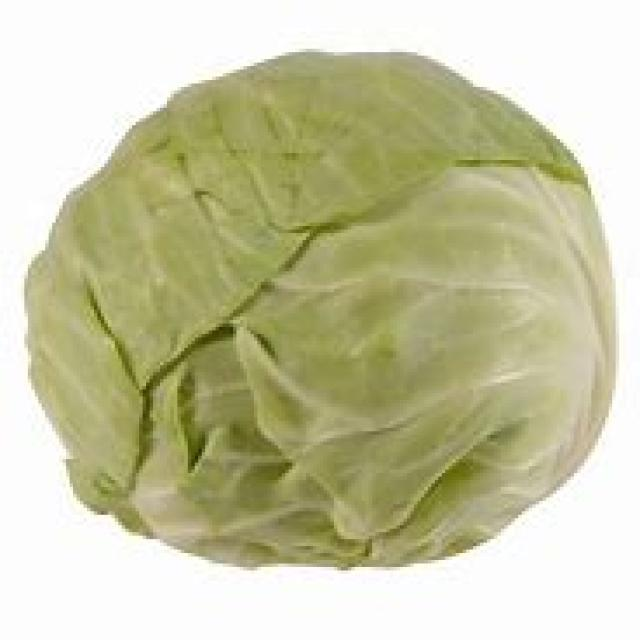cabbage: (23, 53, 621, 571)
